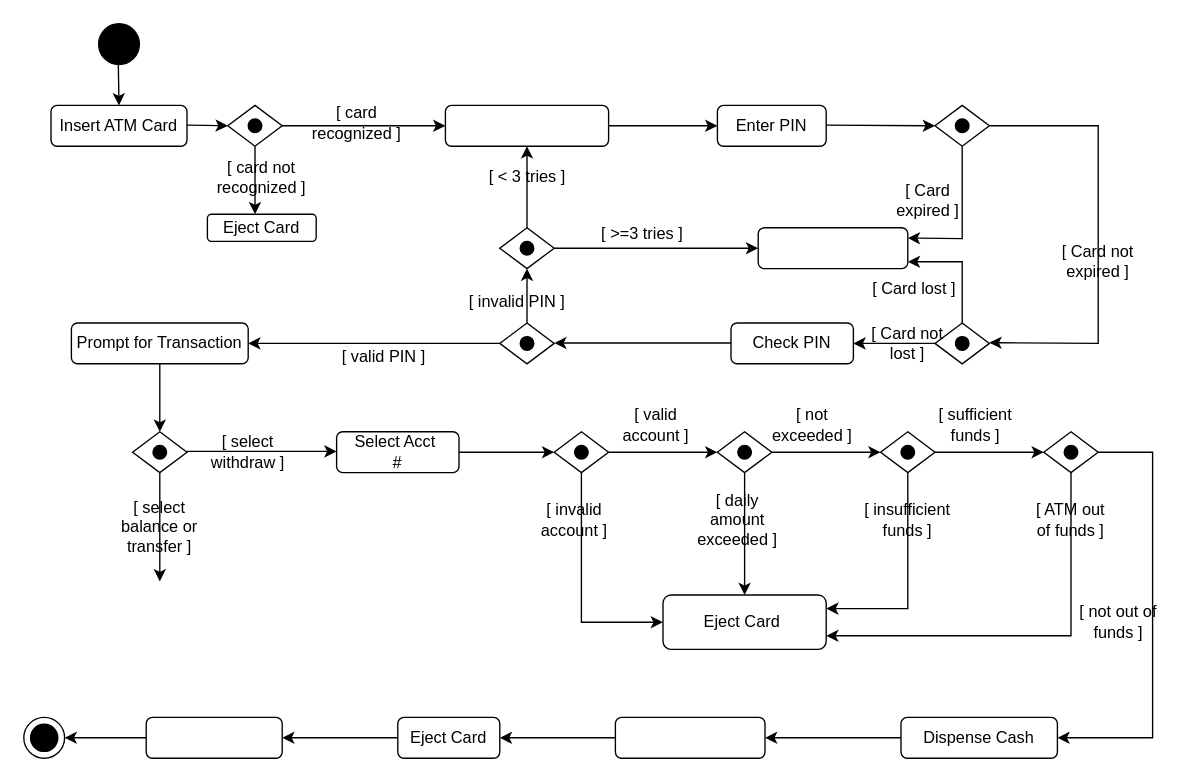
This 1187x782 diagram has some shape labels left out. The centre of each missing label's shape, as x and y in pixels:
Confiscate card: the point at 832,247
Print Receipt: the point at 689,737
Print Welcome Message: the point at 213,737
Prompt for PIN: the point at 526,125
